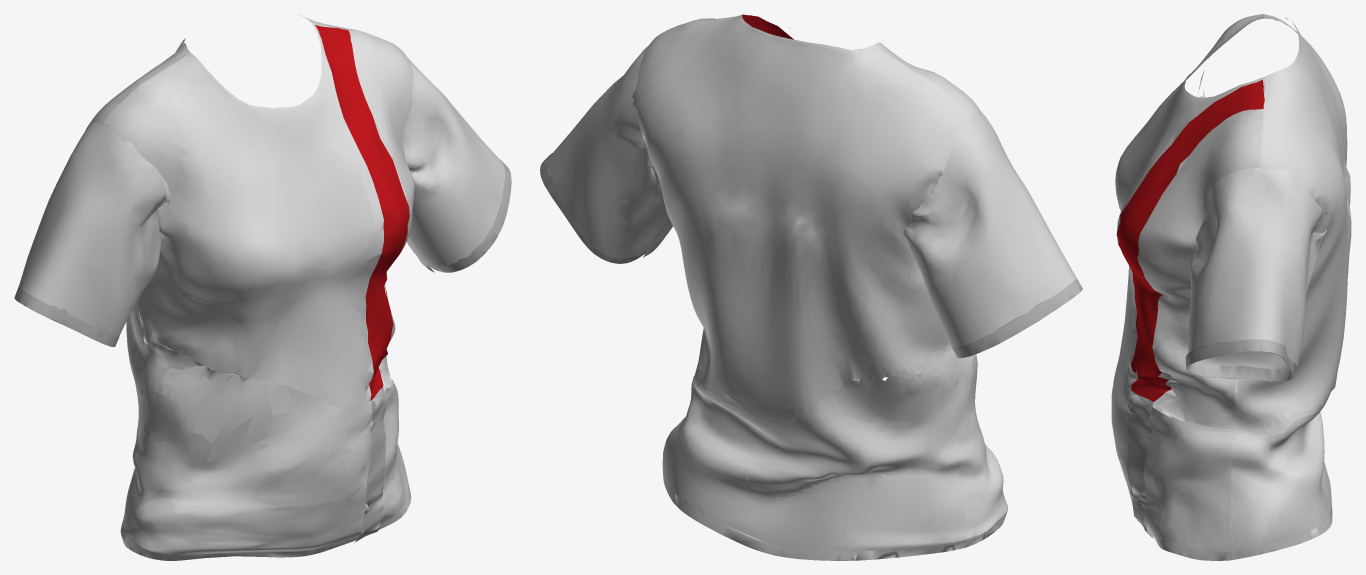
Rendered from tshirt_short_two.glb.
The picture shows the model from 3 angles, left to right: view 1: azimuth 30°, elevation 25°; view 2: azimuth 150°, elevation 25°; view 3: azimuth 270°, elevation 25°; orthographic projection. The views are drawn at different scales.
Parts seen in each view (by area): view 1: top, bottom, left_hand, right_hand, top_stripe, bottom_stripe, left_hand_edge, right_hand_edge; view 2: top, bottom, left_hand, right_hand, left_hand_edge, right_hand_edge; view 3: top, bottom, right_hand, top_stripe, right_hand_edge, bottom_stripe.
Boxes of the visible parts, <box> form: top: <box>85,14,414,407</box>; bottom: <box>120,333,411,560</box>; left_hand: <box>19,121,170,336</box>; right_hand: <box>403,58,504,272</box>; top_stripe: <box>315,25,409,400</box>; bottom_stripe: <box>355,387,387,542</box>; left_hand_edge: <box>14,285,119,347</box>; right_hand_edge: <box>430,159,511,272</box>; top: <box>632,14,981,427</box>; bottom: <box>662,341,1007,560</box>; left_hand: <box>903,112,1076,347</box>; right_hand: <box>548,46,672,258</box>; left_hand_edge: <box>951,278,1082,358</box>; right_hand_edge: <box>540,153,646,263</box>; top: <box>1115,14,1351,435</box>; bottom: <box>1111,358,1332,560</box>; right_hand: <box>1188,168,1328,366</box>; top_stripe: <box>1116,80,1264,401</box>; right_hand_edge: <box>1185,339,1294,381</box>; bottom_stripe: <box>1126,390,1153,538</box>.
Bounding box in the file's own units: 0.7701 × 0.7111 × 0.3315.
